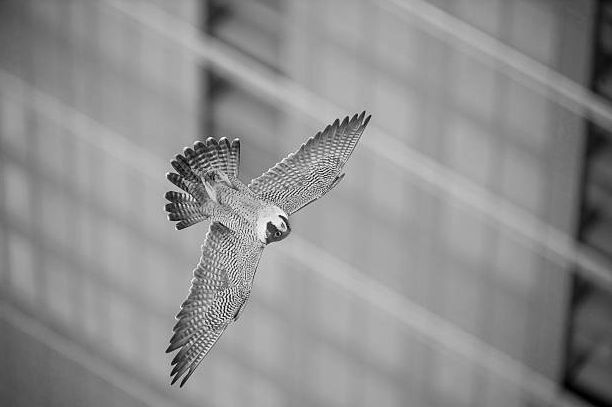Bird: (162, 108, 373, 391)
